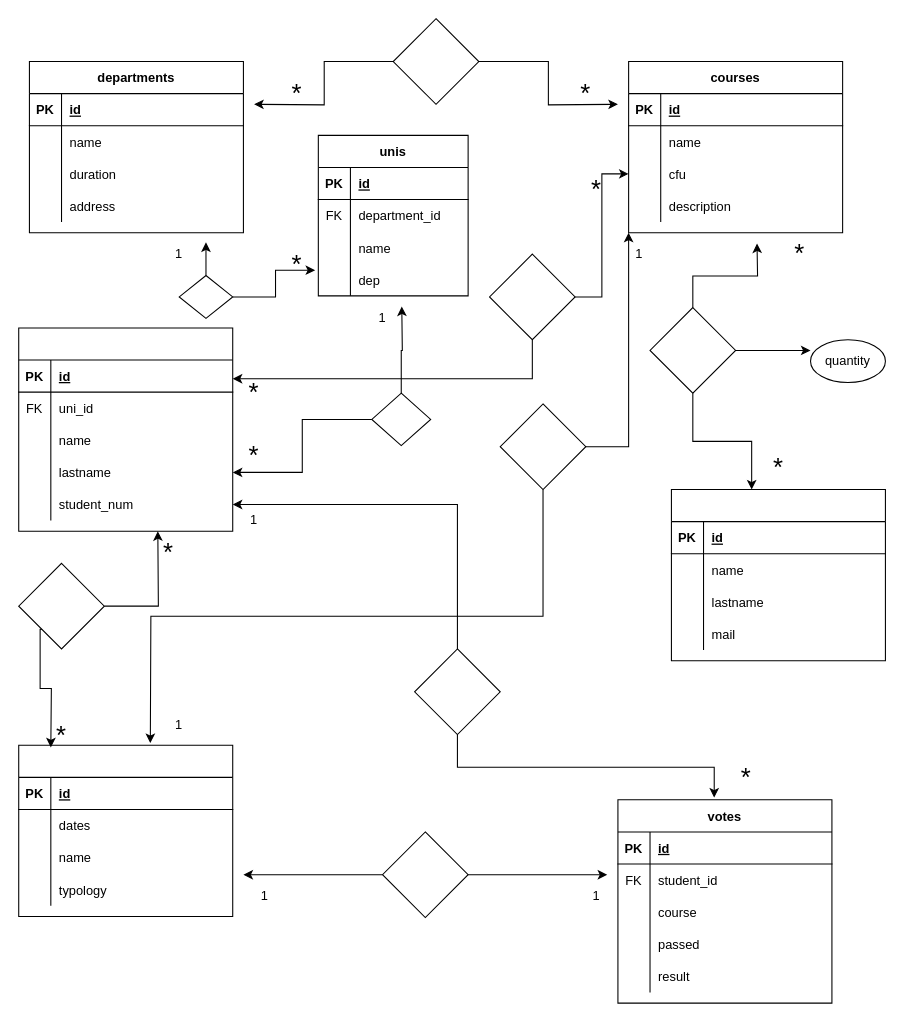
This 904x1022 diagram has some shape labels left out. The box of each missing label's shape, as (x1, y1, x2, y2) in pixels:
exams: (18, 744, 233, 916)
students: (18, 327, 233, 531)
teachers: (670, 488, 885, 661)
